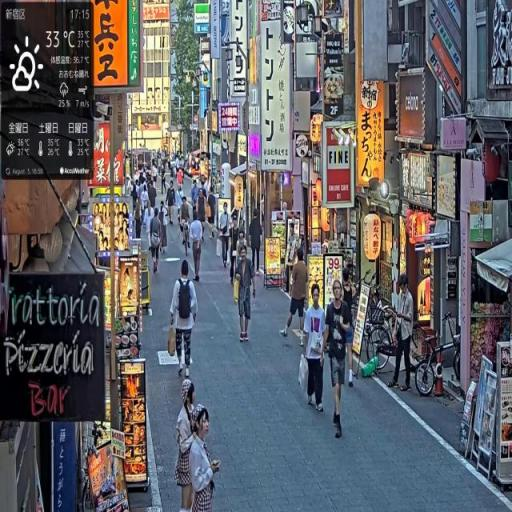person: (324, 279, 353, 445), (187, 405, 224, 512), (169, 260, 200, 380), (175, 376, 202, 511), (303, 284, 328, 412), (389, 275, 415, 393), (281, 248, 309, 340), (234, 243, 257, 344), (344, 271, 360, 389), (228, 214, 242, 293), (190, 212, 205, 284), (219, 202, 233, 273), (150, 209, 164, 276), (167, 183, 177, 225)
